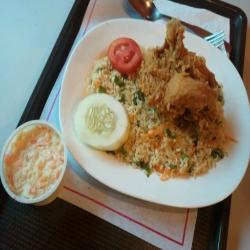rice: (133, 112, 231, 179)
